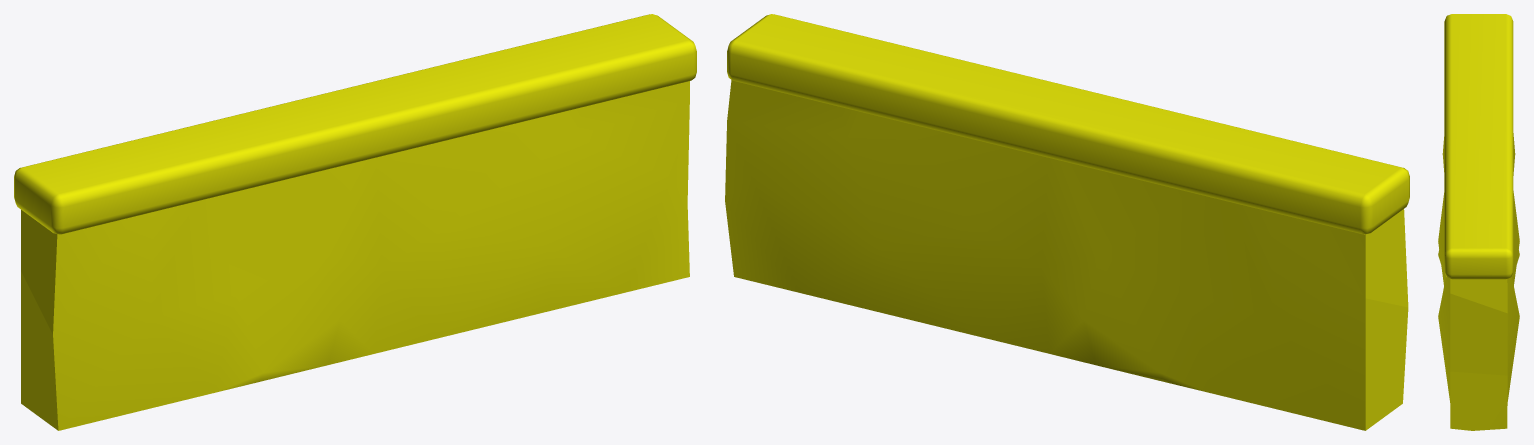
The picture shows the model from 3 angles, left to right: view 1: azimuth 30°, elevation 25°; view 2: azimuth 150°, elevation 25°; view 3: azimuth 270°, elevation 25°; orthographic projection. The views are drawn at different scales.
Visible parts, largest first — view 1: fence1; view 2: fence1; view 3: fence1.
Part boxes in pixels (box(x1,y1,x2,y2)): fence1: box(14, 14, 696, 430); fence1: box(725, 14, 1409, 430); fence1: box(1438, 14, 1519, 430).
Bounding box in the file's own units: 8.84 × 3.08 × 1.27.
1 material, 1 textured.
